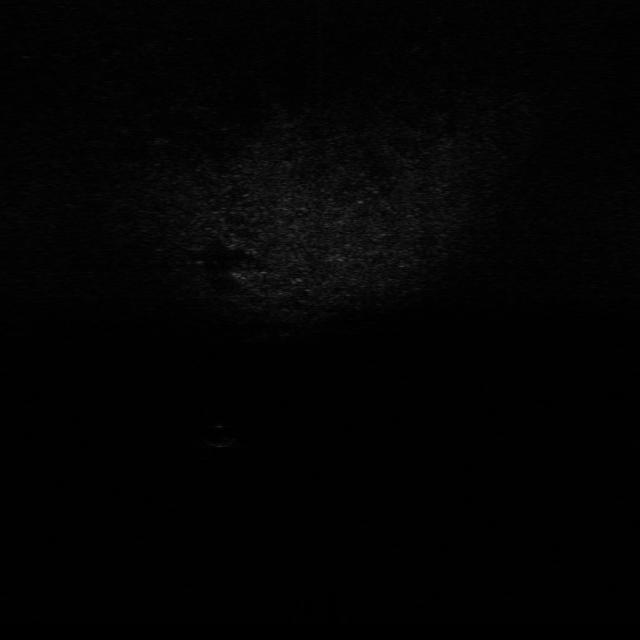ball: (200, 416, 244, 449)
